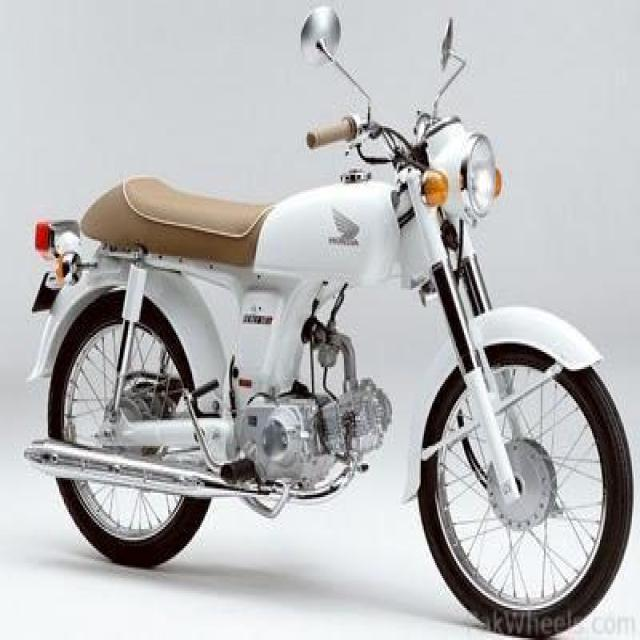motorcycle: (6, 6, 634, 640)
